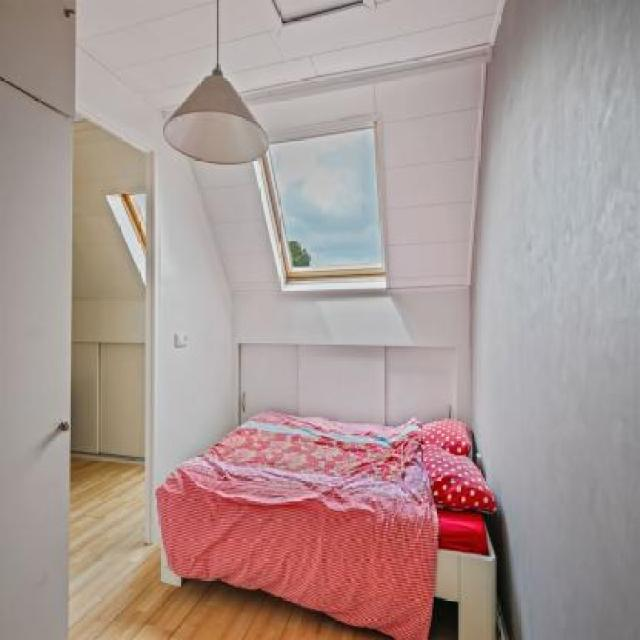floor: (67, 455, 417, 640)
